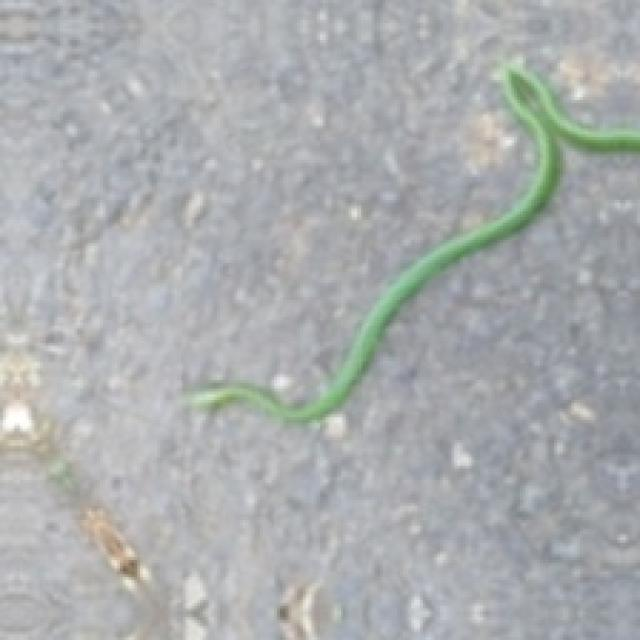red-tailed green ratsnake: (186, 63, 637, 420)
